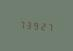nine: (32, 19, 38, 31)
seven: (46, 20, 52, 32), (18, 18, 24, 29)
three: (25, 19, 31, 30)
two: (39, 20, 45, 31)
